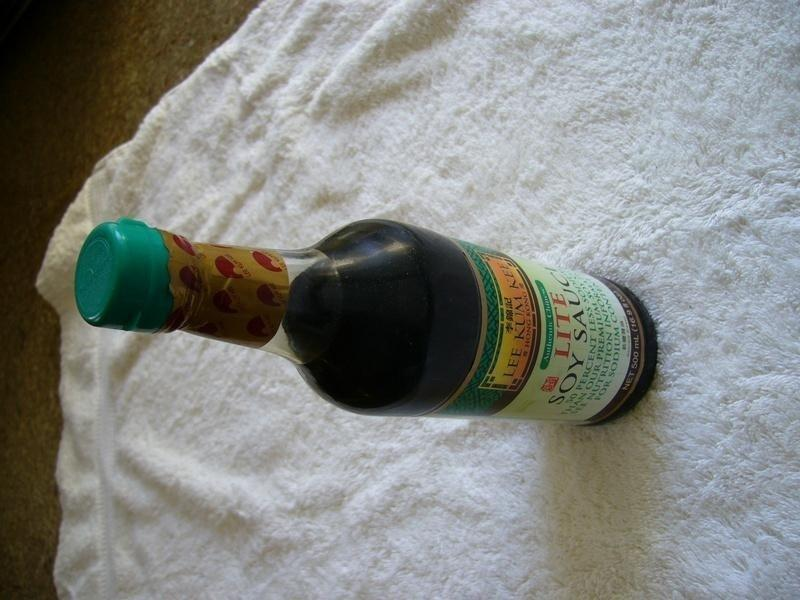bottle-glass: (70, 214, 659, 431)
